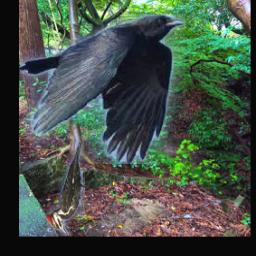Crow: (19, 15, 185, 164)
Woodpecker: (45, 131, 84, 237)
